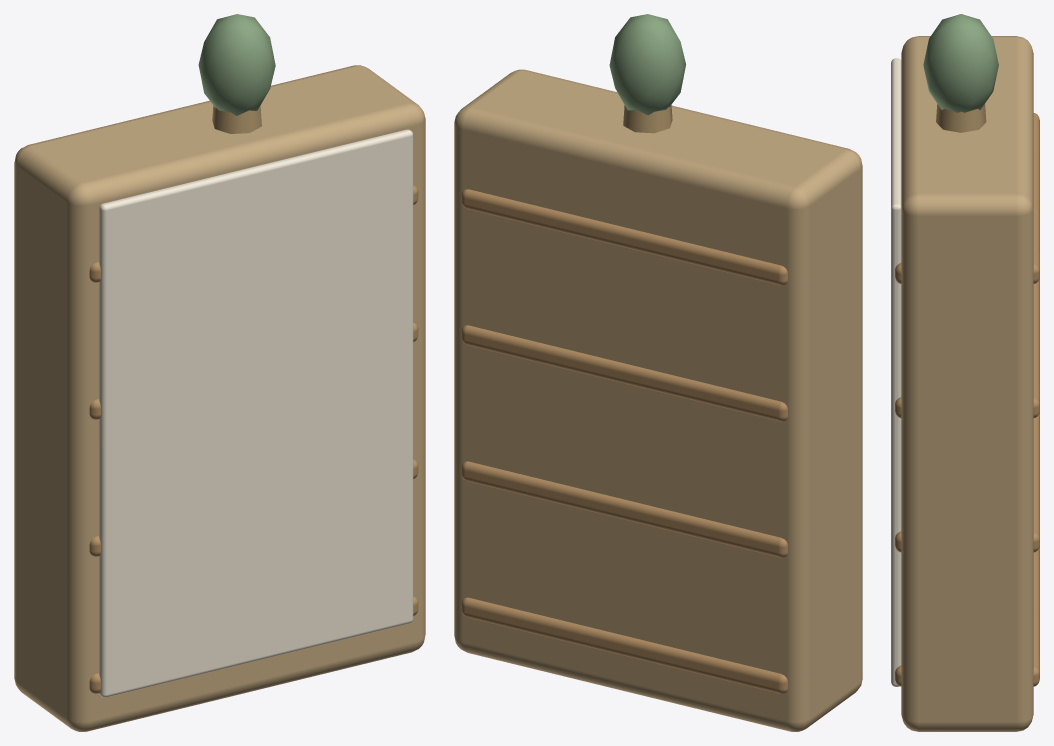
Rendered from bookcase.glb.
3 views of the same model, side by side, from view 1: azimuth 30°, elevation 25°; view 2: azimuth 150°, elevation 25°; view 3: azimuth 270°, elevation 25° (orthographic). The views are drawn at different scales.
Parts seen in each view (by area): view 1: bookcase; view 2: bookcase; view 3: bookcase.
Boxes of the visible parts, <box> form: bookcase: <box>14,14,425,731</box>; bookcase: <box>454,14,862,731</box>; bookcase: <box>891,14,1039,731</box>.
Bounding box in the file's own units: 1.28 × 2.26 × 0.4725.
